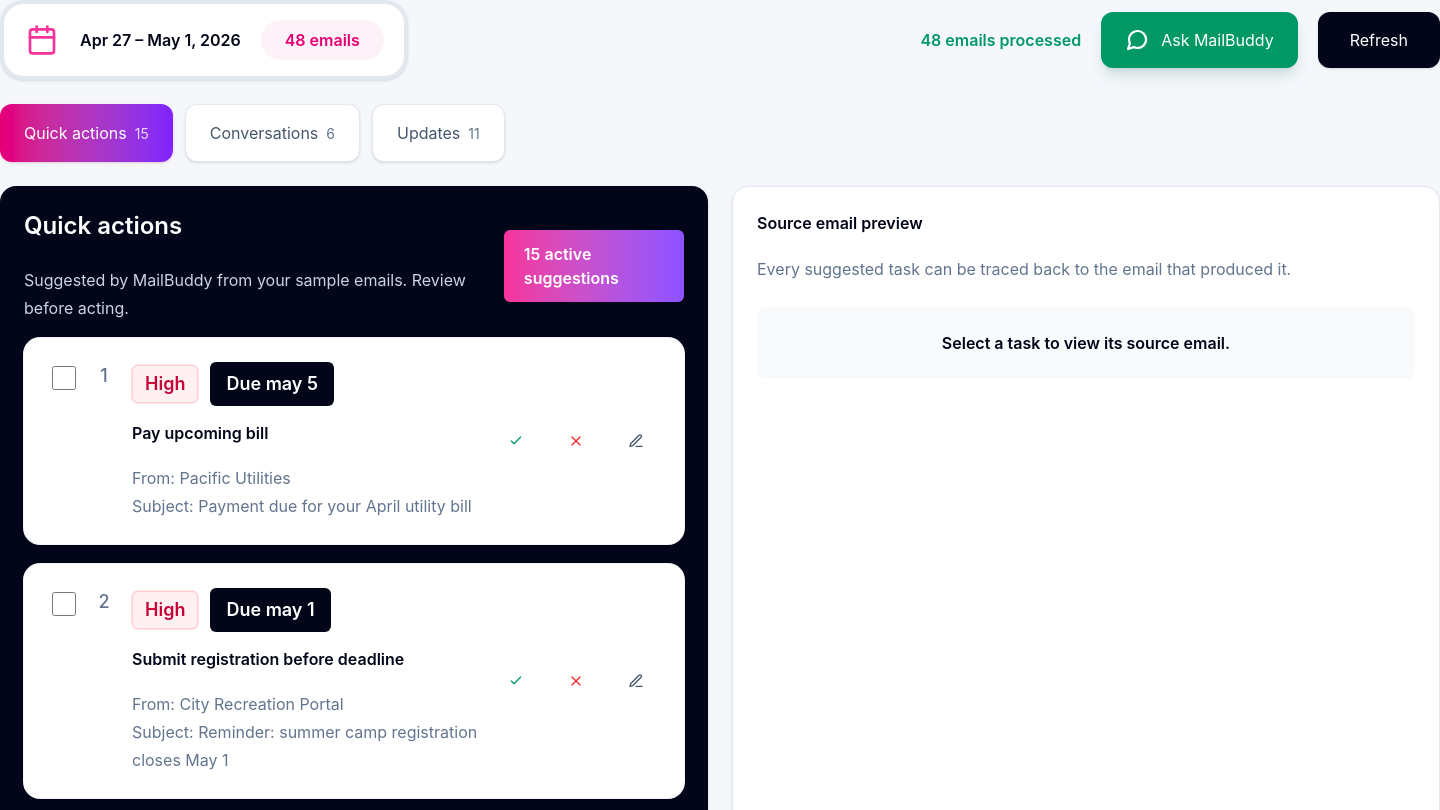
Scenario: Dashboard integration › keeps the active assistant conversation visible until the chat closes
The image size is (1440, 810).
Click the button "Ask MailBuddy". click: point(1199, 40)
box: [1101,12,1298,68]
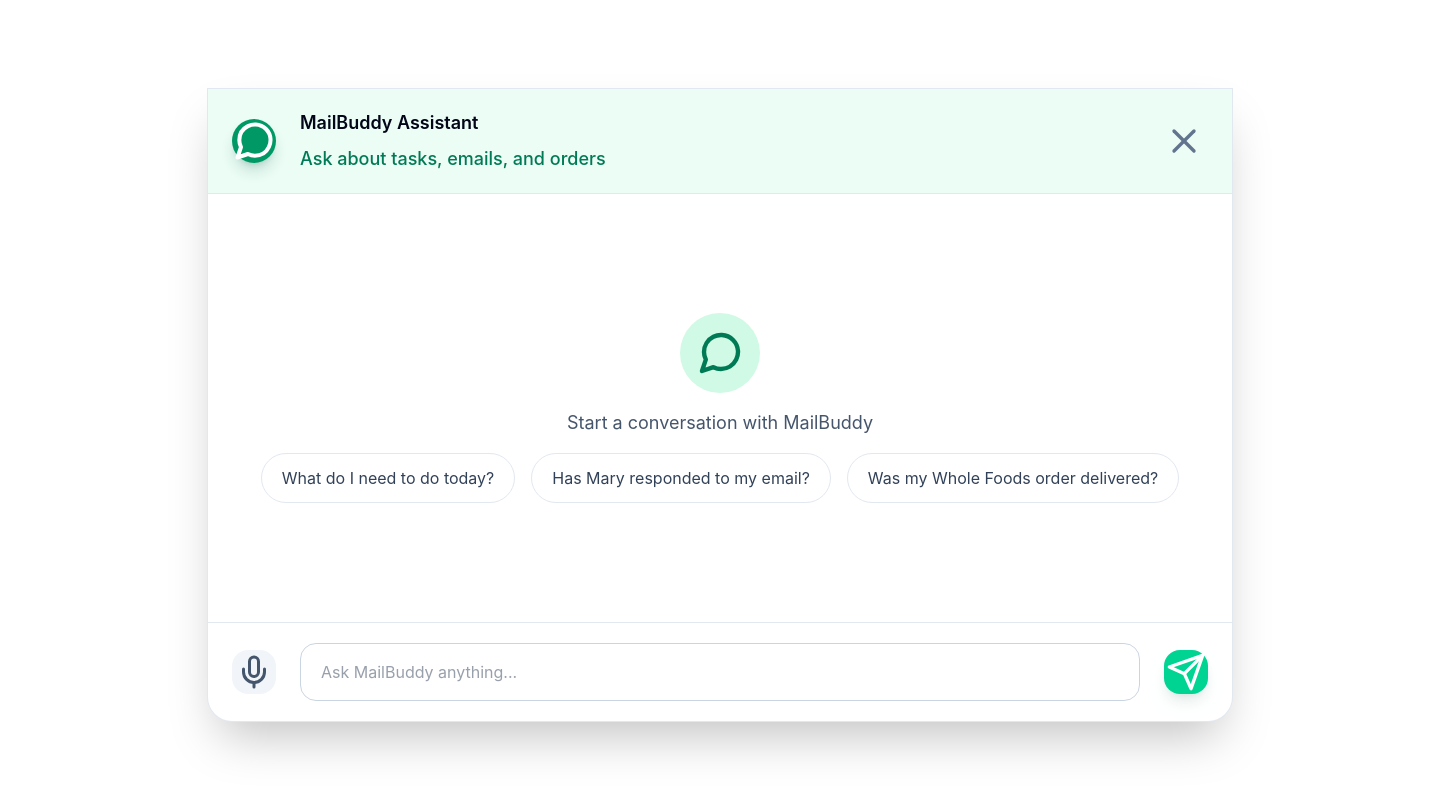
Type "What do I need to do today?" into the field with placeholder "Ask MailBuddy anything...". click: point(720, 672)
box: [300,643,1140,701]
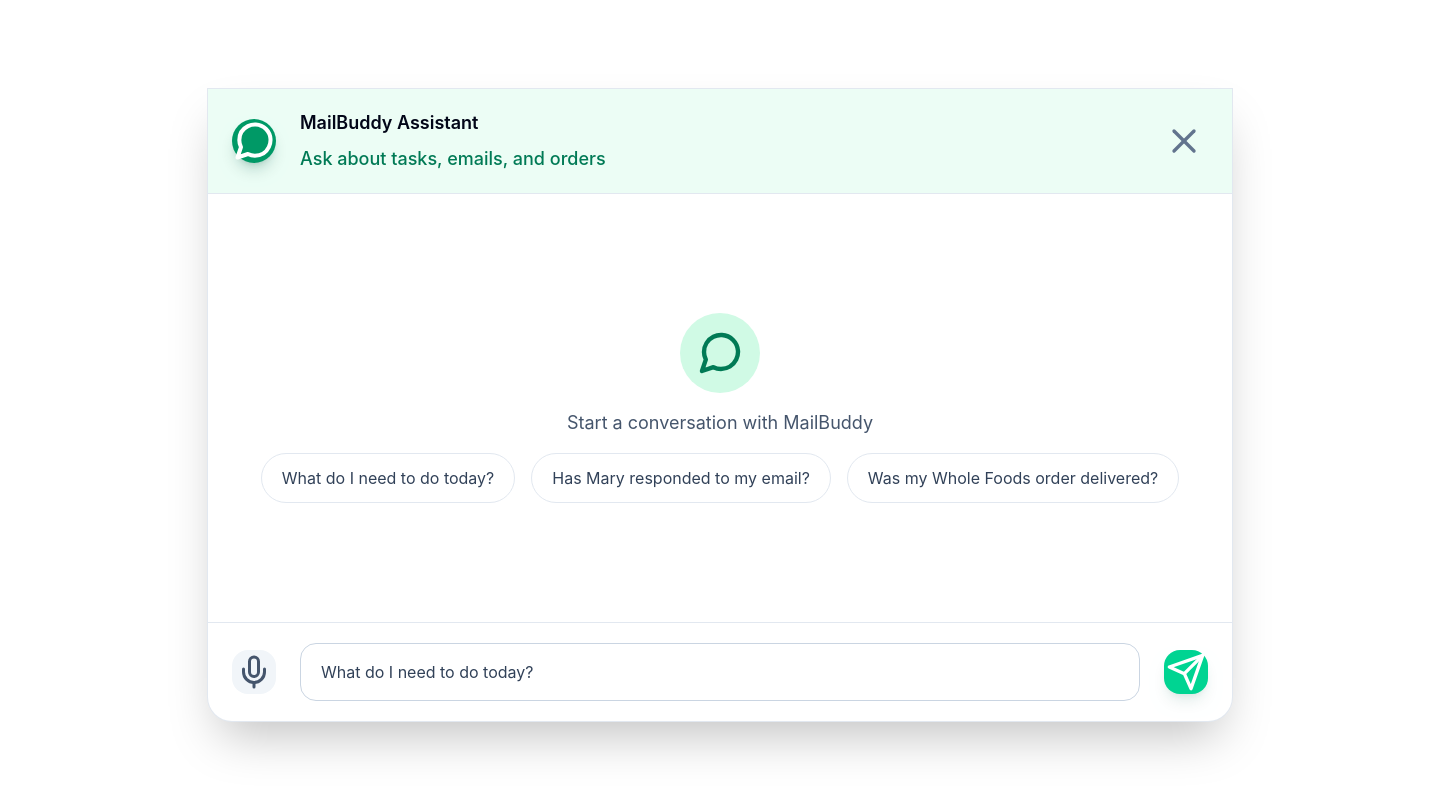
Click the button named "Send message". click: point(1186, 672)
box: [1164,650,1208,694]
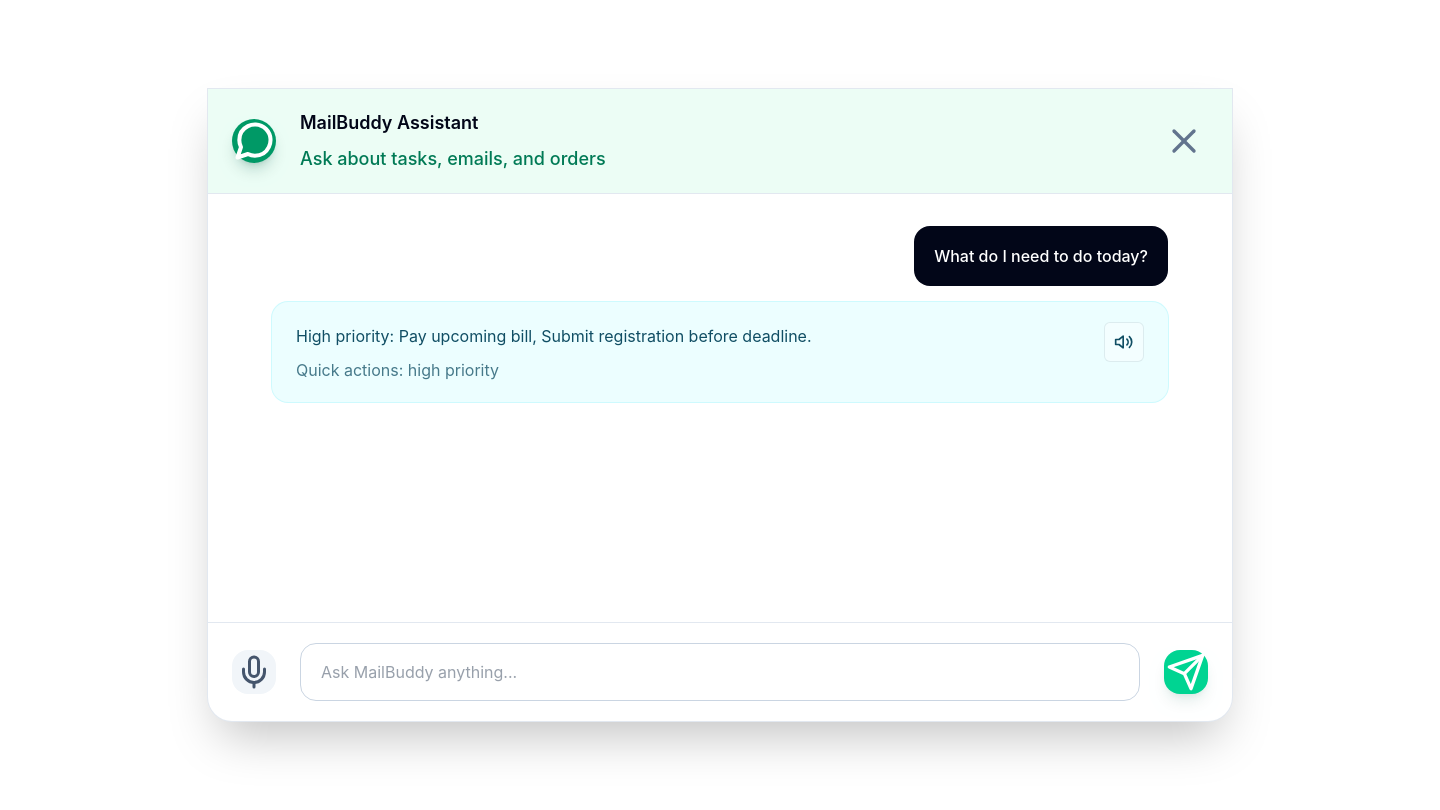
Result: the text "High priority: Pay upcoming bill" is shown at [296,326,812,346]
Type "Was my Whole Foods order delivered?" into the field with placeholder "Ask MailBuddy anything...". click: point(720, 672)
box: [300,643,1140,701]
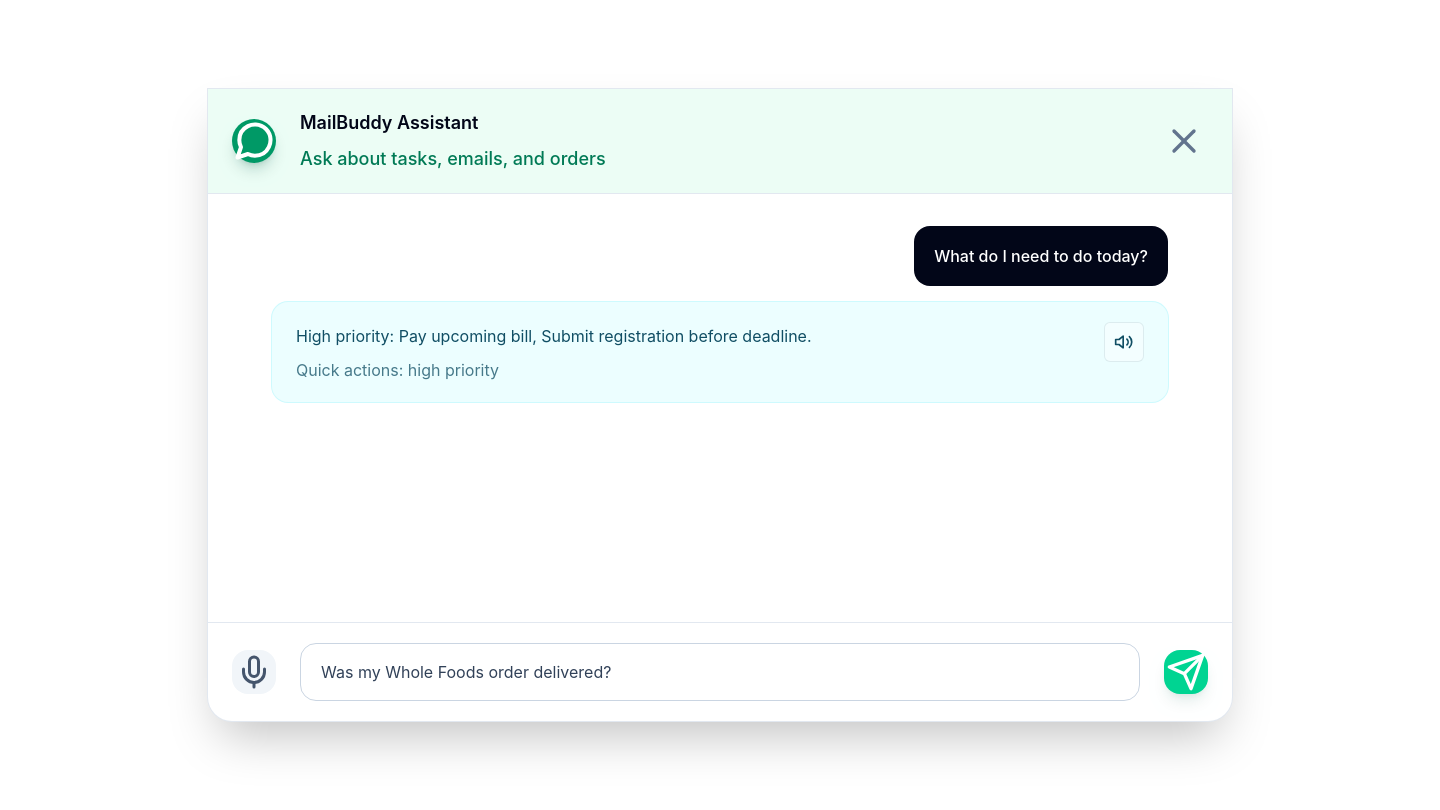
Click the button named "Send message". click: point(1186, 672)
box: [1164,650,1208,694]
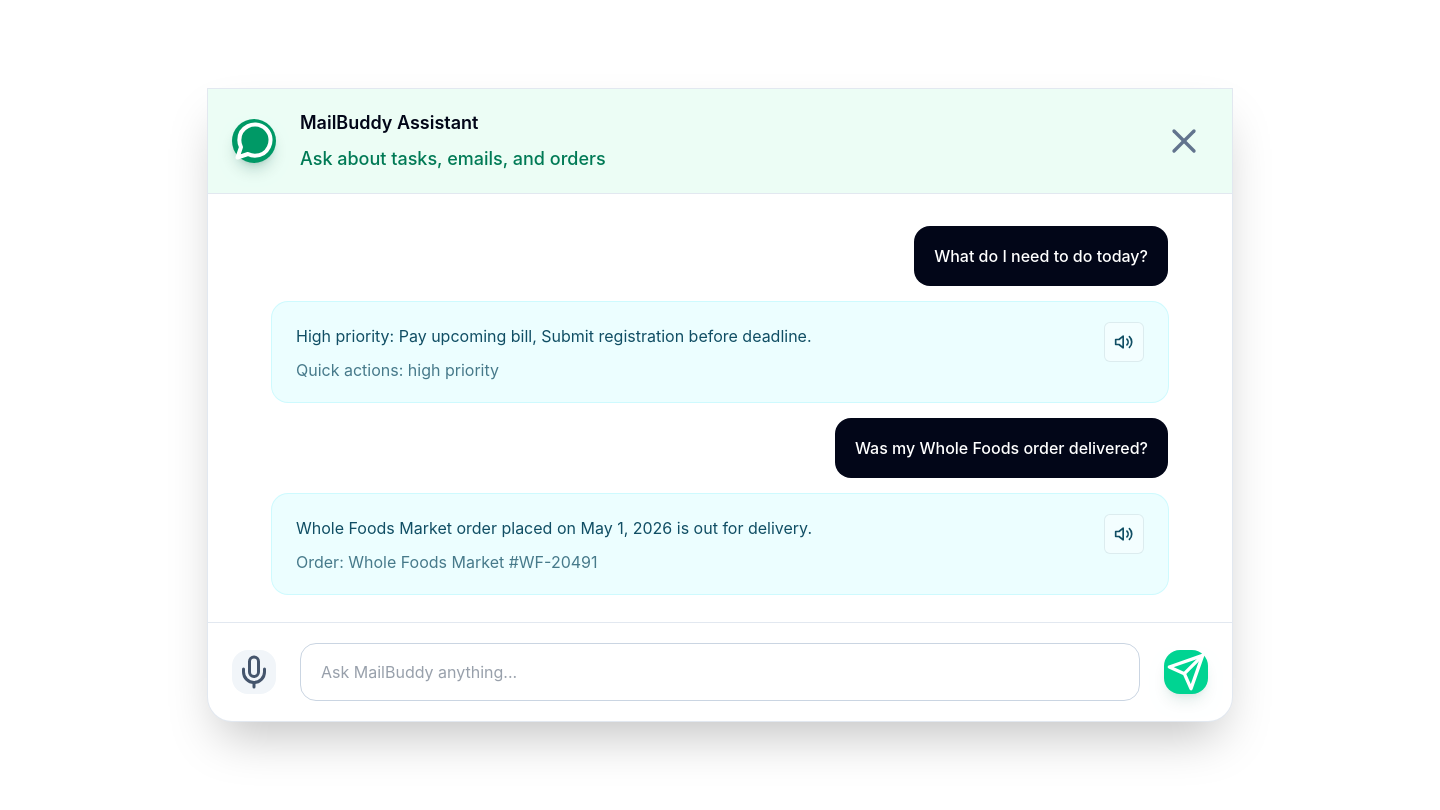
Result: the text "What do I need to do today?" is shown at [914,226,1168,286]
Result: the text "order placed on May 1, 2026 is out for delivery" is shown at [296,518,812,538]
Result: the text "Was my Whole Foods order delivered?" is shown at [835,418,1168,478]
